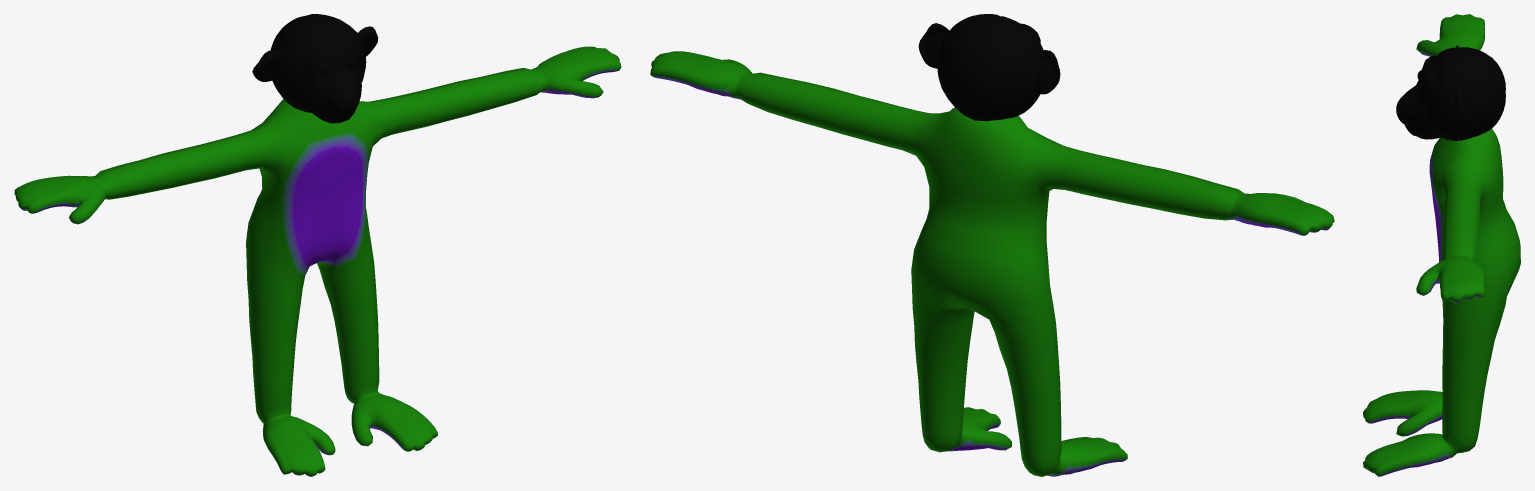
The model's file is Chimpanzee.fbx.
The picture shows the model from 3 angles, left to right: view 1: azimuth 30°, elevation 25°; view 2: azimuth 150°, elevation 25°; view 3: azimuth 270°, elevation 25°; orthographic projection. The views are drawn at different scales.
Visible parts, largest first — view 1: Chimpanzee; view 2: Chimpanzee; view 3: Chimpanzee.
Part boxes in pixels (x1,y1,x2,y2): Chimpanzee: (14, 14, 621, 476); Chimpanzee: (650, 14, 1334, 476); Chimpanzee: (1363, 14, 1520, 476).
Size of the model in its own units: 15.3 by 9.98 by 3.63.
